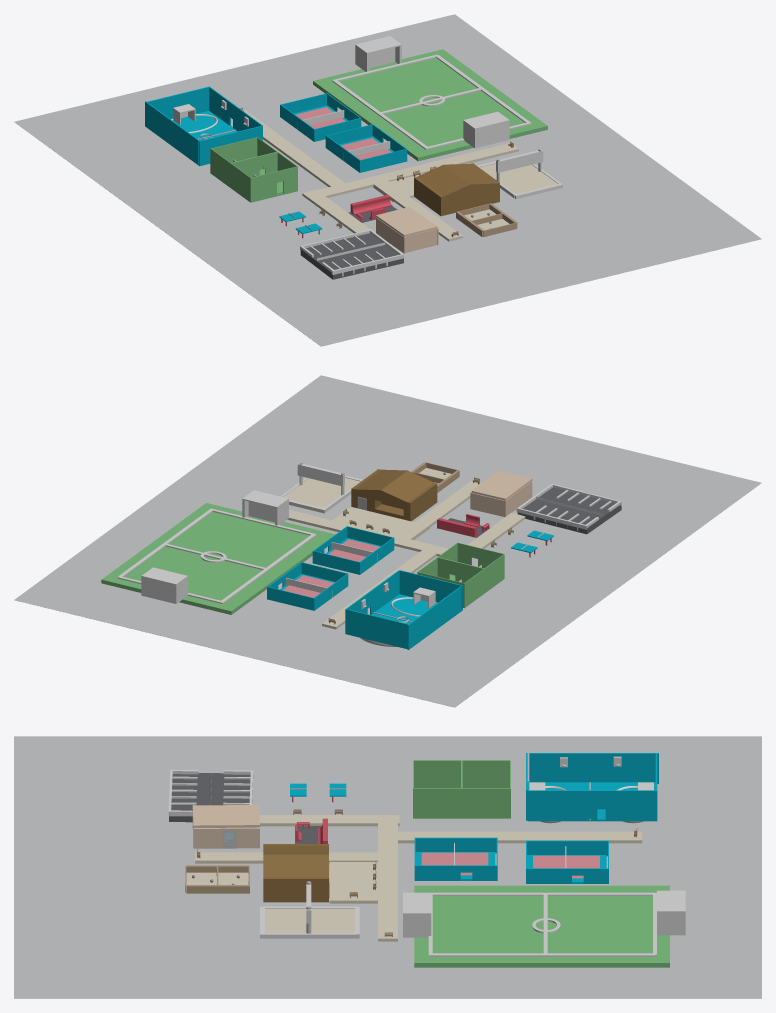
The model's file is centrodeportivo.glb.
3 views of the same model, one above another, from view 1: azimuth 30°, elevation 25°; view 2: azimuth 150°, elevation 25°; view 3: azimuth 270°, elevation 25° (orthographic). The views are drawn at different scales.
Parts seen in each view (by area): view 1: Mesh_Mesh_head_geo.001_lambert2SG.001; view 2: Mesh_Mesh_head_geo.001_lambert2SG.001; view 3: Mesh_Mesh_head_geo.001_lambert2SG.001.
Boxes of the visible parts, <box> form: Mesh_Mesh_head_geo.001_lambert2SG.001: <box>14,14,761,346</box>; Mesh_Mesh_head_geo.001_lambert2SG.001: <box>14,375,761,707</box>; Mesh_Mesh_head_geo.001_lambert2SG.001: <box>14,736,761,998</box>.
Bounding box in the file's own units: 0.373 × 0.024 × 0.45.
